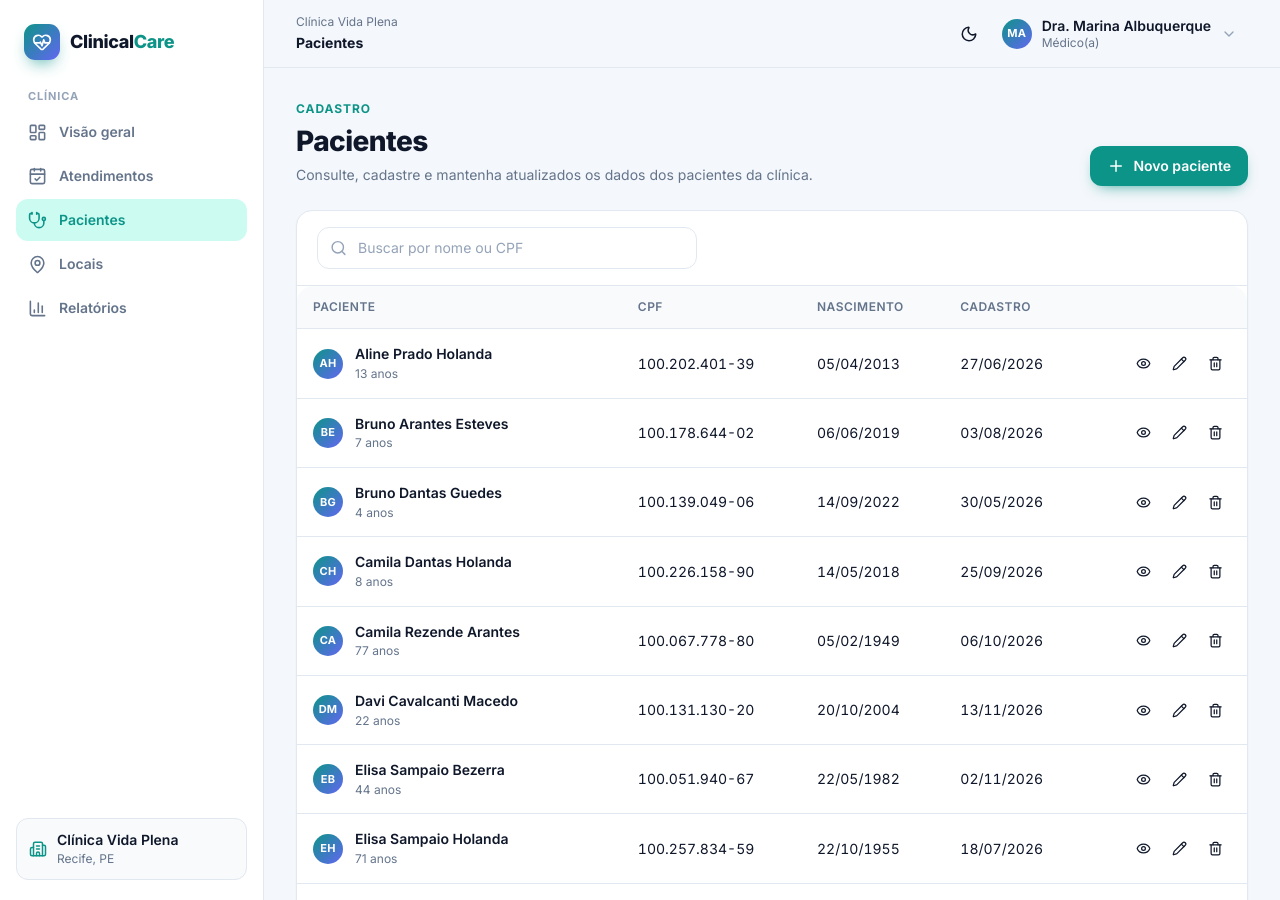
Test: pacientes › valida e cadastra um paciente pela API
The image size is (1280, 900).
Later steps or results of the test are not shown.
Click the button "Novo paciente" at (1169, 166), box [1090, 146, 1248, 186]
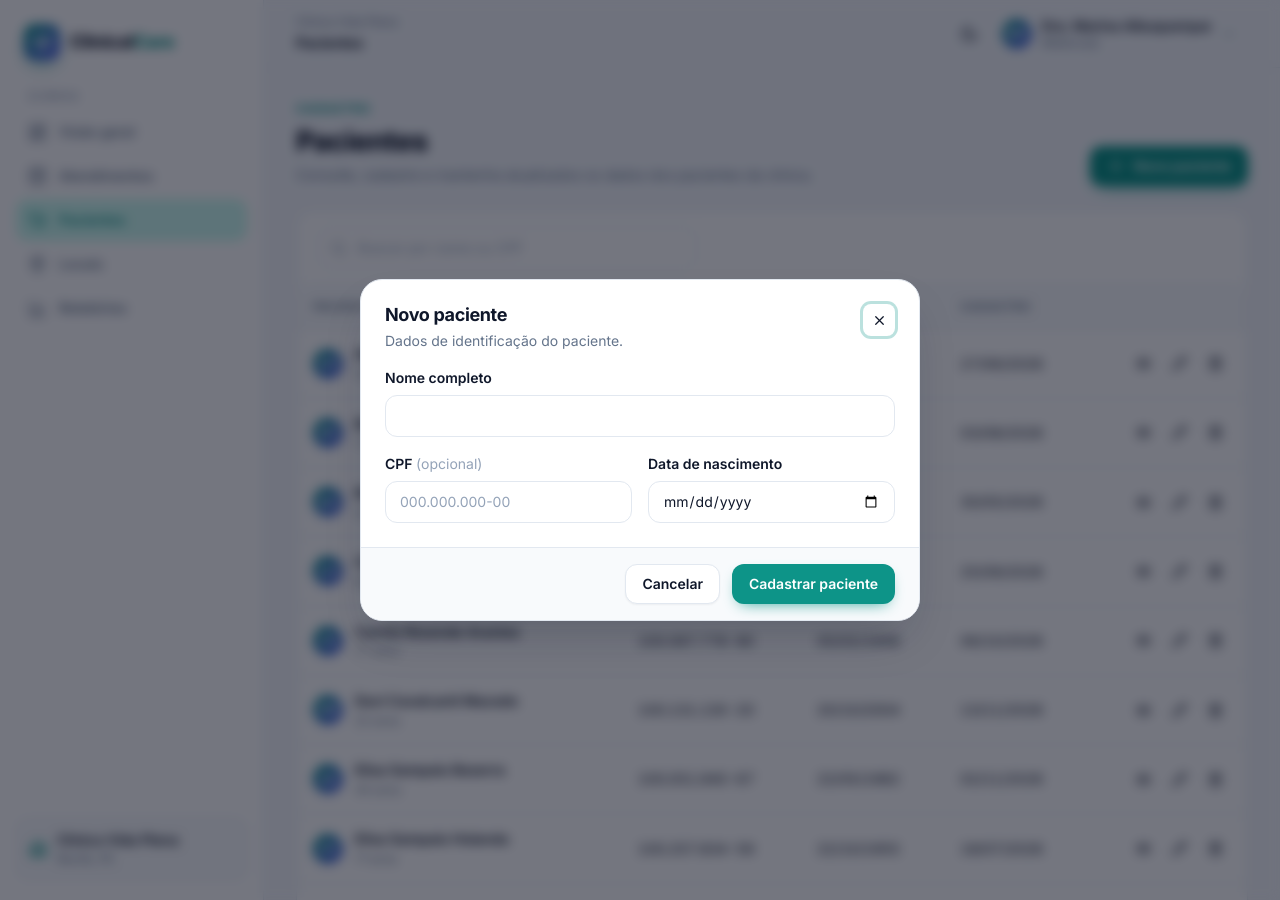
Click the button "Cadastrar paciente" at (814, 584), box [732, 564, 895, 604]
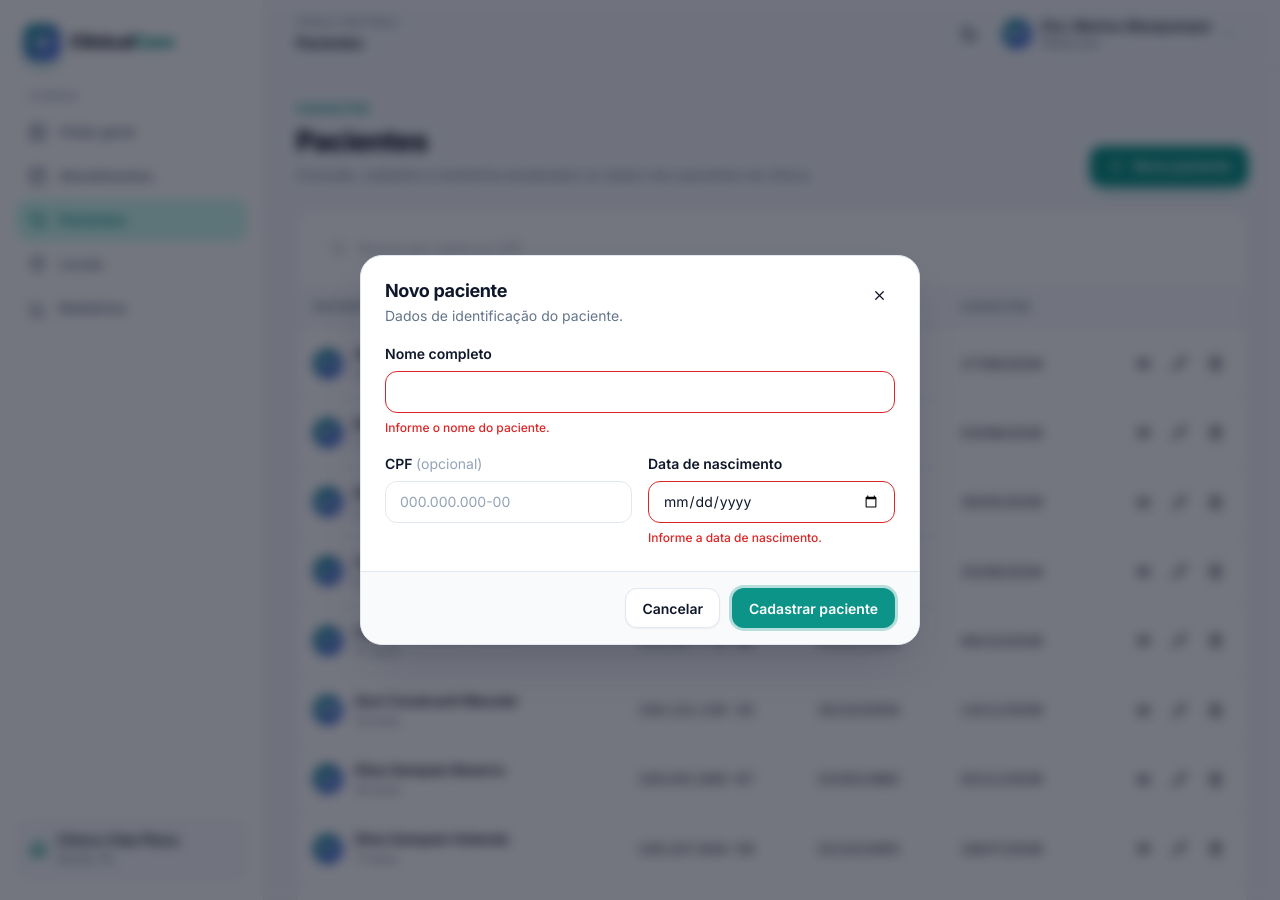
Check: the text "Informe o nome do paciente." is shown, box [385, 420, 550, 434]
